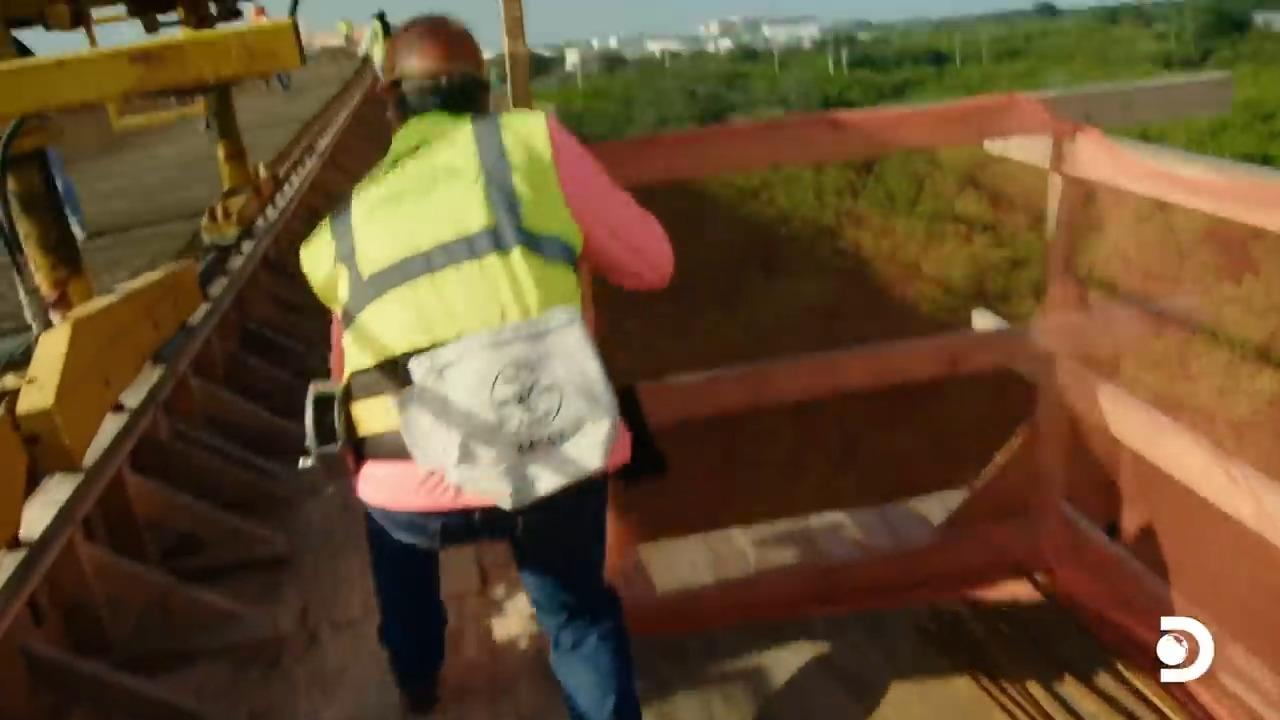Helmet: (367, 15, 495, 86)
Person: (297, 14, 676, 718)
Safety Vest: (341, 125, 541, 340)
